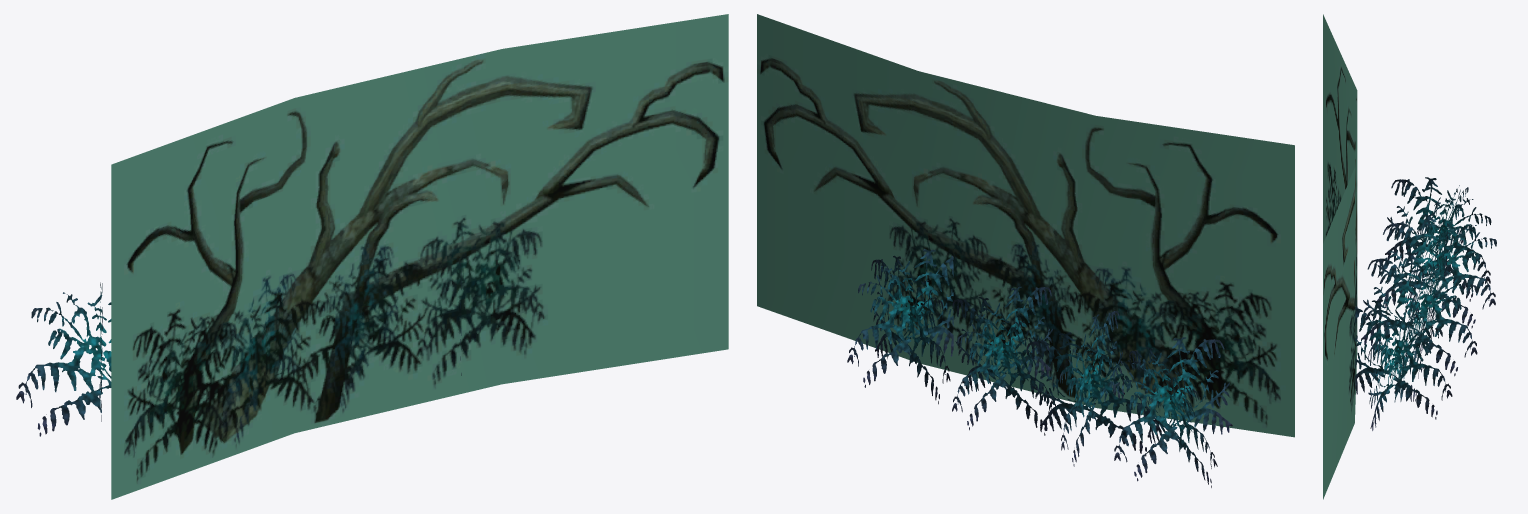
Rendered from INST_MIRK_BRIAR_TOPA.fbx.
The picture shows the model from 3 angles, left to right: view 1: azimuth 30°, elevation 25°; view 2: azimuth 150°, elevation 25°; view 3: azimuth 270°, elevation 25°; orthographic projection. The views are drawn at different scales.
Visible parts, largest first — view 1: INST_MIRK_BRIAR_TOPA; view 2: INST_MIRK_BRIAR_TOPA; view 3: INST_MIRK_BRIAR_TOPA.
Part boxes in pixels (box(x1,y1,x2,y2)): INST_MIRK_BRIAR_TOPA: box(16, 14, 728, 499); INST_MIRK_BRIAR_TOPA: box(757, 14, 1294, 487); INST_MIRK_BRIAR_TOPA: box(1323, 14, 1496, 499).
Size of the model in its own units: 66083 by 35057 by 22867.
2 materials, 2 textured.
